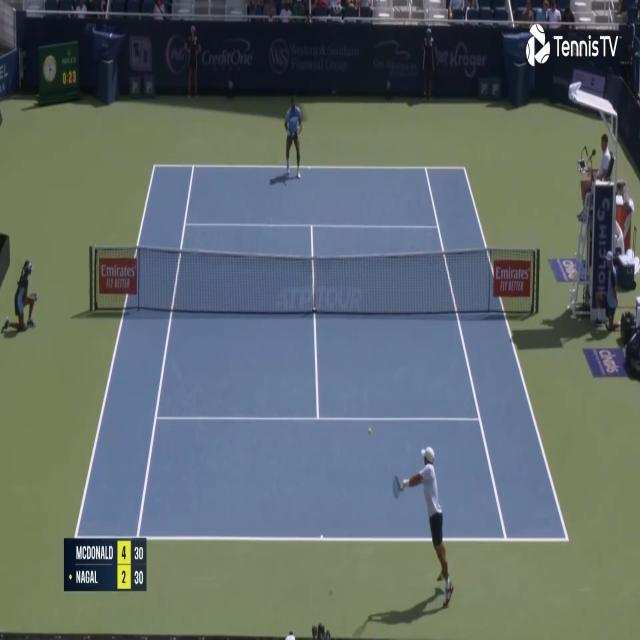tennis-player: (392, 444, 454, 610), (282, 90, 303, 180)
